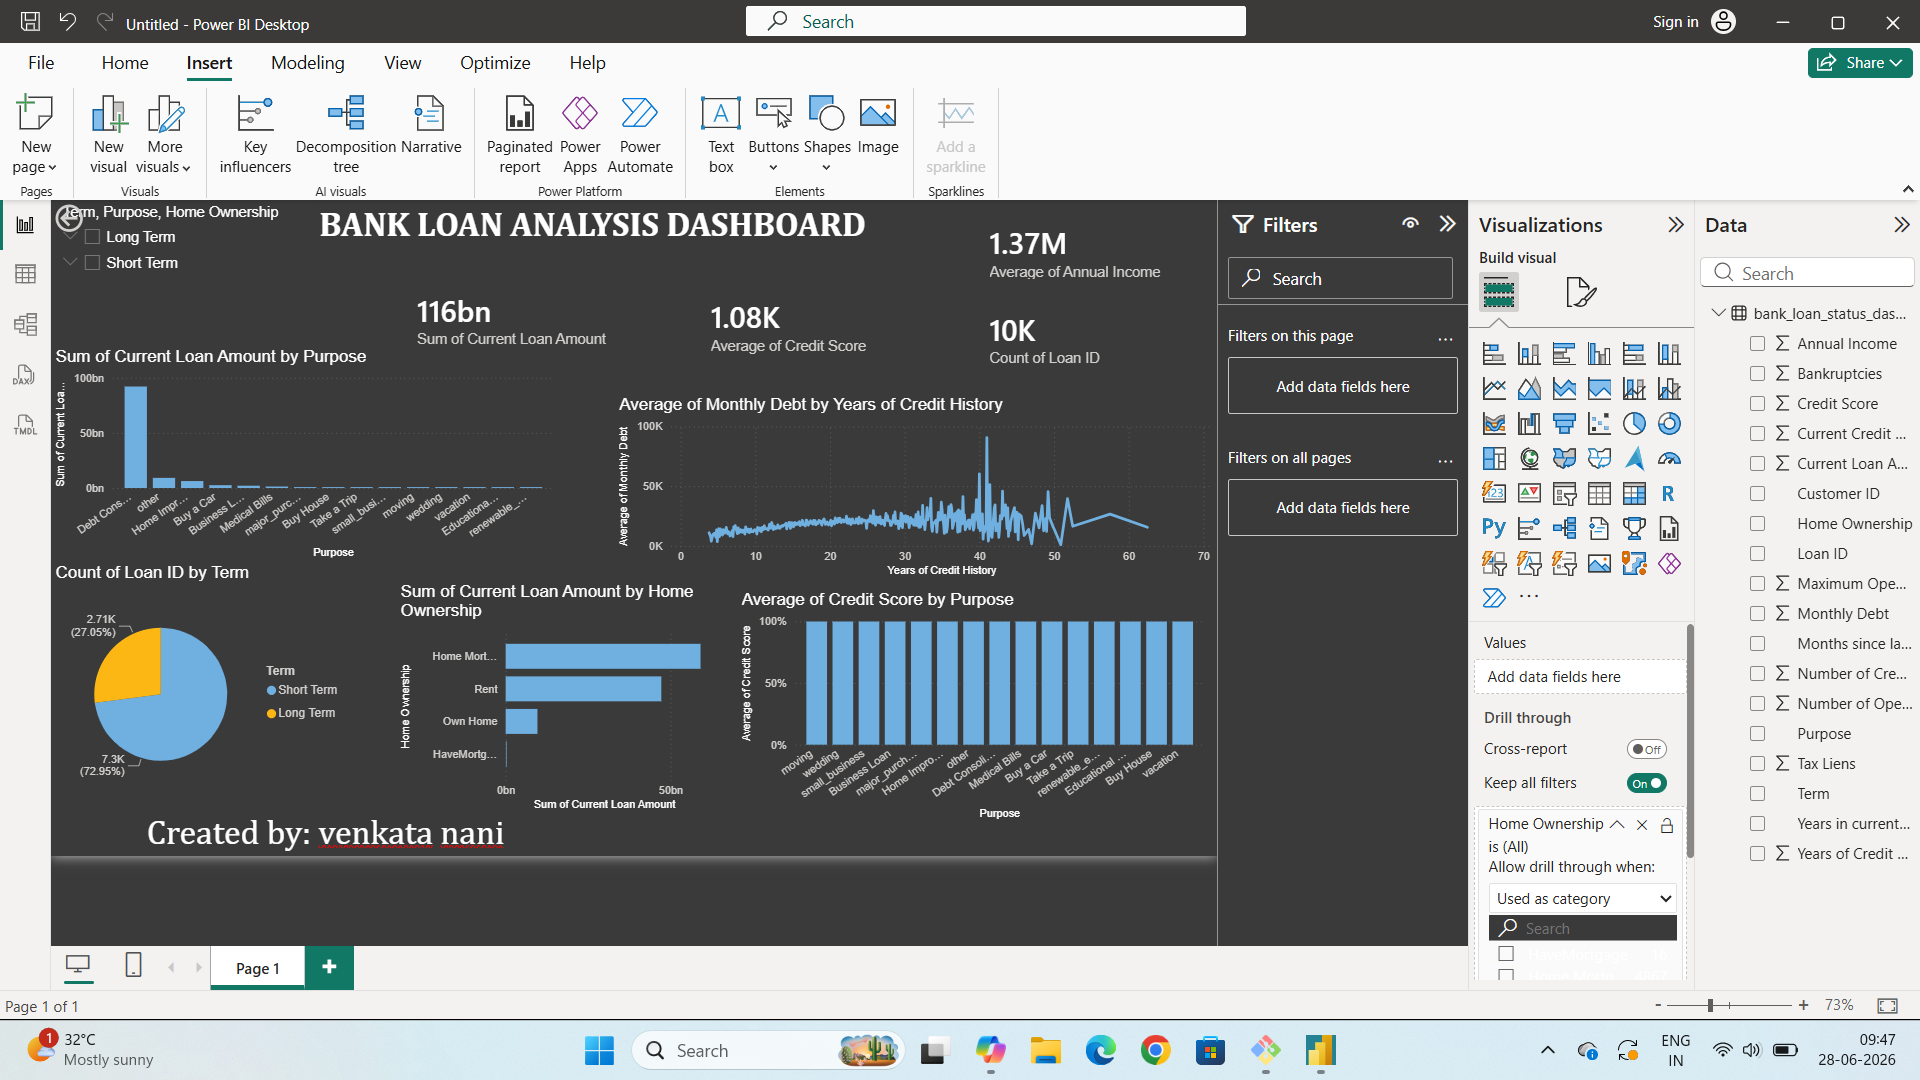

Layout of this report page (visuals, bound fields, positions):
{"tool":"powerbi","page":{"name":"Page 1","canvas":[1280,720],"ordinal":0},"visuals":[{"type":"cardVisual","fields":{"Data":["CountNonNull(bank_loan_status_dashboard.Loan ID)"]},"box":[1000.3,96.1,279.9,108.4],"z":0},{"type":"cardVisual","fields":{"Data":["Sum(bank_loan_status_dashboard.Current Loan Amount)"]},"box":[371.9,81,279.9,98.8],"z":1},{"type":"cardVisual","fields":{"Data":["Avg(bank_loan_status_dashboard.Annual Income)"]},"box":[1000.3,6.9,279.9,98.8],"z":2},{"type":"cardVisual","fields":{"Data":["Avg(bank_loan_status_dashboard.Credit Score)"]},"box":[694.3,81,279.9,112.5],"z":3},{"type":"clusteredColumnChart","fields":{"Y":["Sum(bank_loan_status_dashboard.Current Loan Amount)"],"Category":["bank_loan_status_dashboard.Purpose"]},"box":[0,160.5,557.1,237.4],"z":4},{"type":"clusteredBarChart","fields":{"Category":["bank_loan_status_dashboard.Home Ownership"],"Y":["Sum(bank_loan_status_dashboard.Current Loan Amount)"]},"box":[378.7,418.5,356.8,256.6],"z":5},{"type":"pieChart","fields":{"Category":["bank_loan_status_dashboard.Term"],"Y":["CountNonNull(bank_loan_status_dashboard.Loan ID)"]},"box":[0,397.9,329.3,269],"z":6},{"type":"lineChart","fields":{"Category":["bank_loan_status_dashboard.Years of Credit History"],"Y":["Avg(bank_loan_status_dashboard.Monthly Debt)"]},"box":[618.9,214.1,661.4,204.5],"z":7},{"type":"hundredPercentStackedColumnChart","fields":{"Category":["bank_loan_status_dashboard.Purpose"],"Y":["Avg(bank_loan_status_dashboard.Credit Score)"]},"box":[753.3,428.1,517.3,256.6],"z":8},{"type":"textbox","box":[289.5,0,660,56.3],"z":9},{"type":"slicer","fields":{"Values":["bank_loan_status_dashboard.Term","bank_loan_status_dashboard.Purpose","bank_loan_status_dashboard.Home Ownership"]},"box":[0,0,278.6,115.3],"z":10},{"type":"actionButton","box":[0,0,100,40],"z":11},{"type":"textbox","box":[100.2,666.9,411.7,53.5],"z":12}]}

Visuals, with their boxes on the page's 1280x720 design canvas (x1, y1, x2, y2). These are canvas units, not pixel positions in the 1920x1080 screenshot, which may show the page scaled, cropped or inside an application window:
cardVisual - CountNonNull(bank_loan_status_dashboard.Loan ID): locate(1000, 96, 1280, 204)
cardVisual - Sum(bank_loan_status_dashboard.Current Loan Amount): locate(372, 81, 652, 180)
cardVisual - Avg(bank_loan_status_dashboard.Annual Income): locate(1000, 7, 1280, 106)
cardVisual - Avg(bank_loan_status_dashboard.Credit Score): locate(694, 81, 974, 194)
clusteredColumnChart - Sum(bank_loan_status_dashboard.Current Loan Amount) x bank_loan_status_dashboard.Purpose: locate(0, 160, 557, 398)
clusteredBarChart - bank_loan_status_dashboard.Home Ownership x Sum(bank_loan_status_dashboard.Current Loan Amount): locate(379, 418, 736, 675)
pieChart - bank_loan_status_dashboard.Term x CountNonNull(bank_loan_status_dashboard.Loan ID): locate(0, 398, 329, 667)
lineChart - bank_loan_status_dashboard.Years of Credit History x Avg(bank_loan_status_dashboard.Monthly Debt): locate(619, 214, 1280, 419)
hundredPercentStackedColumnChart - bank_loan_status_dashboard.Purpose x Avg(bank_loan_status_dashboard.Credit Score): locate(753, 428, 1271, 685)
textbox: locate(290, 0, 950, 56)
slicer - bank_loan_status_dashboard.Term x bank_loan_status_dashboard.Purpose: locate(0, 0, 279, 115)
actionButton: locate(0, 0, 100, 40)
textbox: locate(100, 667, 512, 720)
